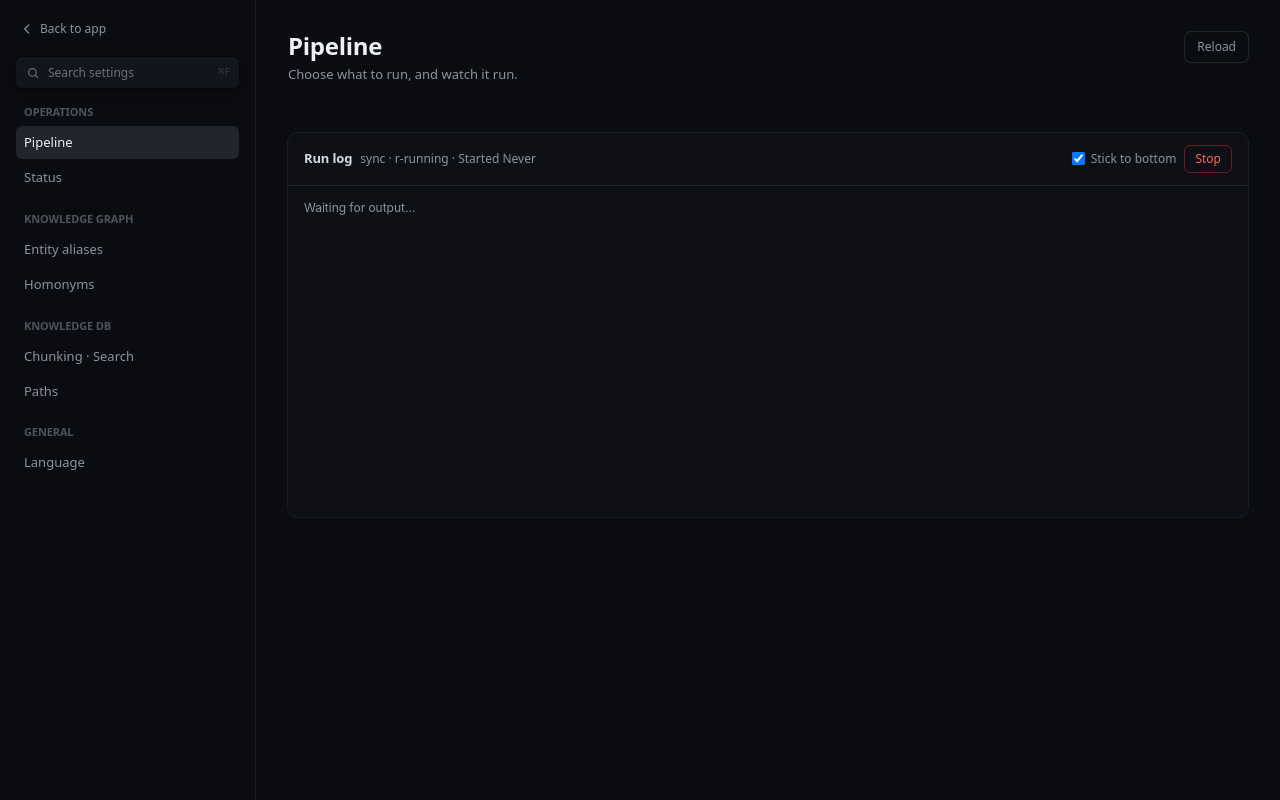
Test: SettingsPage — does an operation failure message survive › the next poll does not erase a stop failure message
The image size is (1280, 800).
Click the button "Stop" at (1208, 159), box left=1184, top=145, right=1232, bottom=173
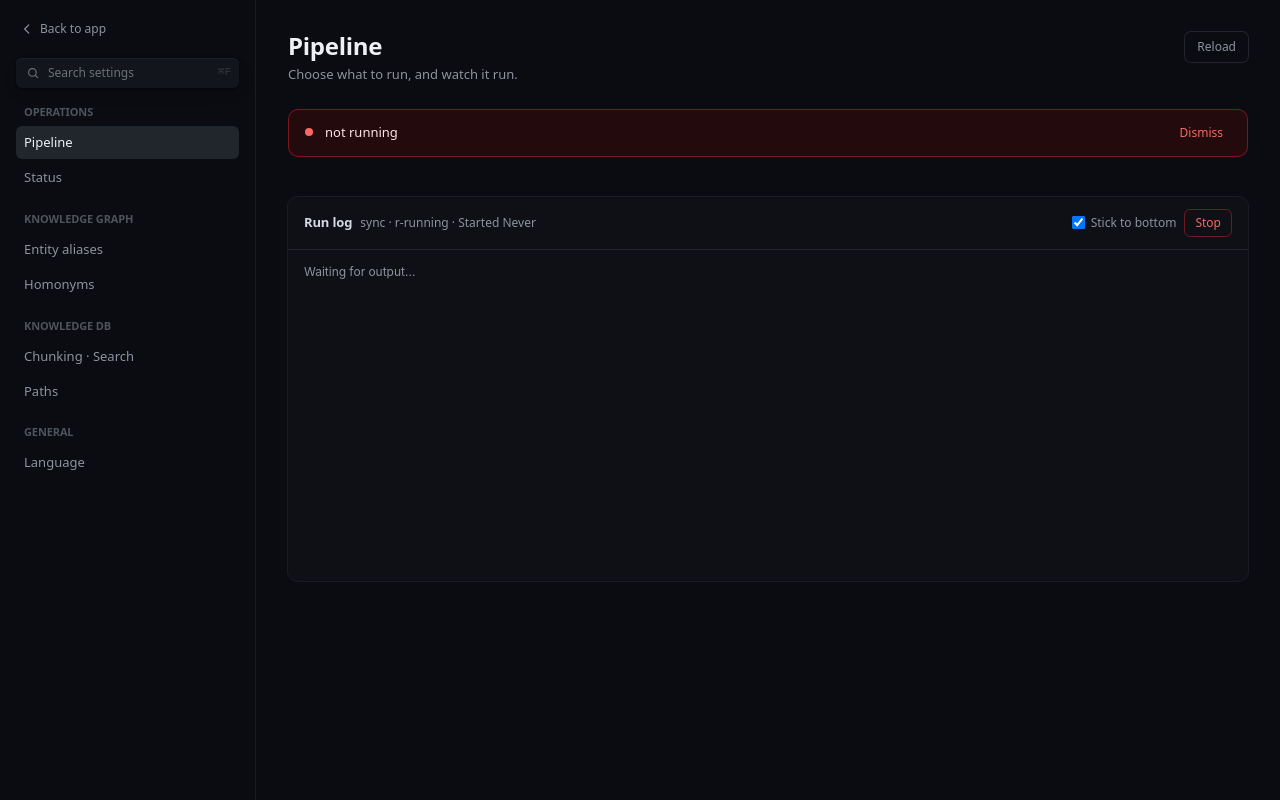
Check: the text "not running" is shown, box left=325, top=123, right=398, bottom=141
Note: It goes away only on close
Click the button "Dismiss" at (1201, 133), box left=1172, top=122, right=1231, bottom=144
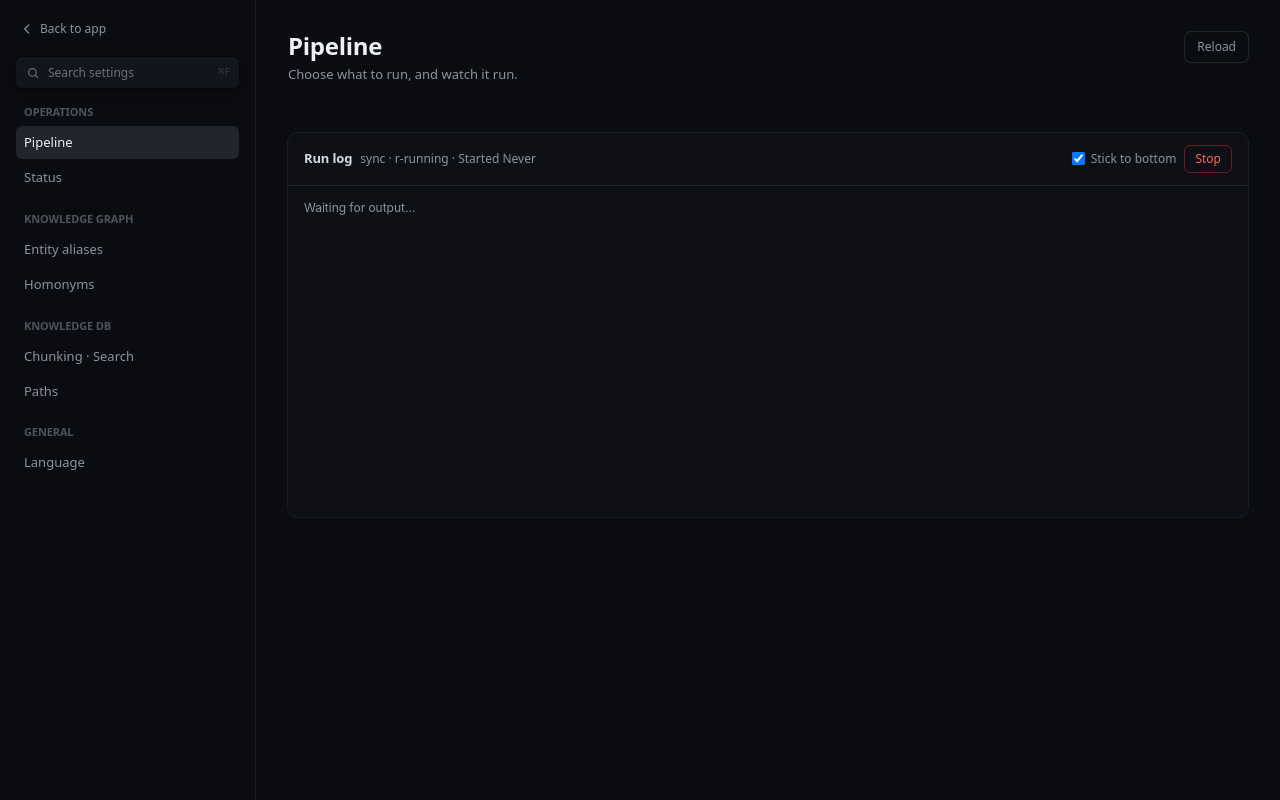
Check: the text "not running" is gone
